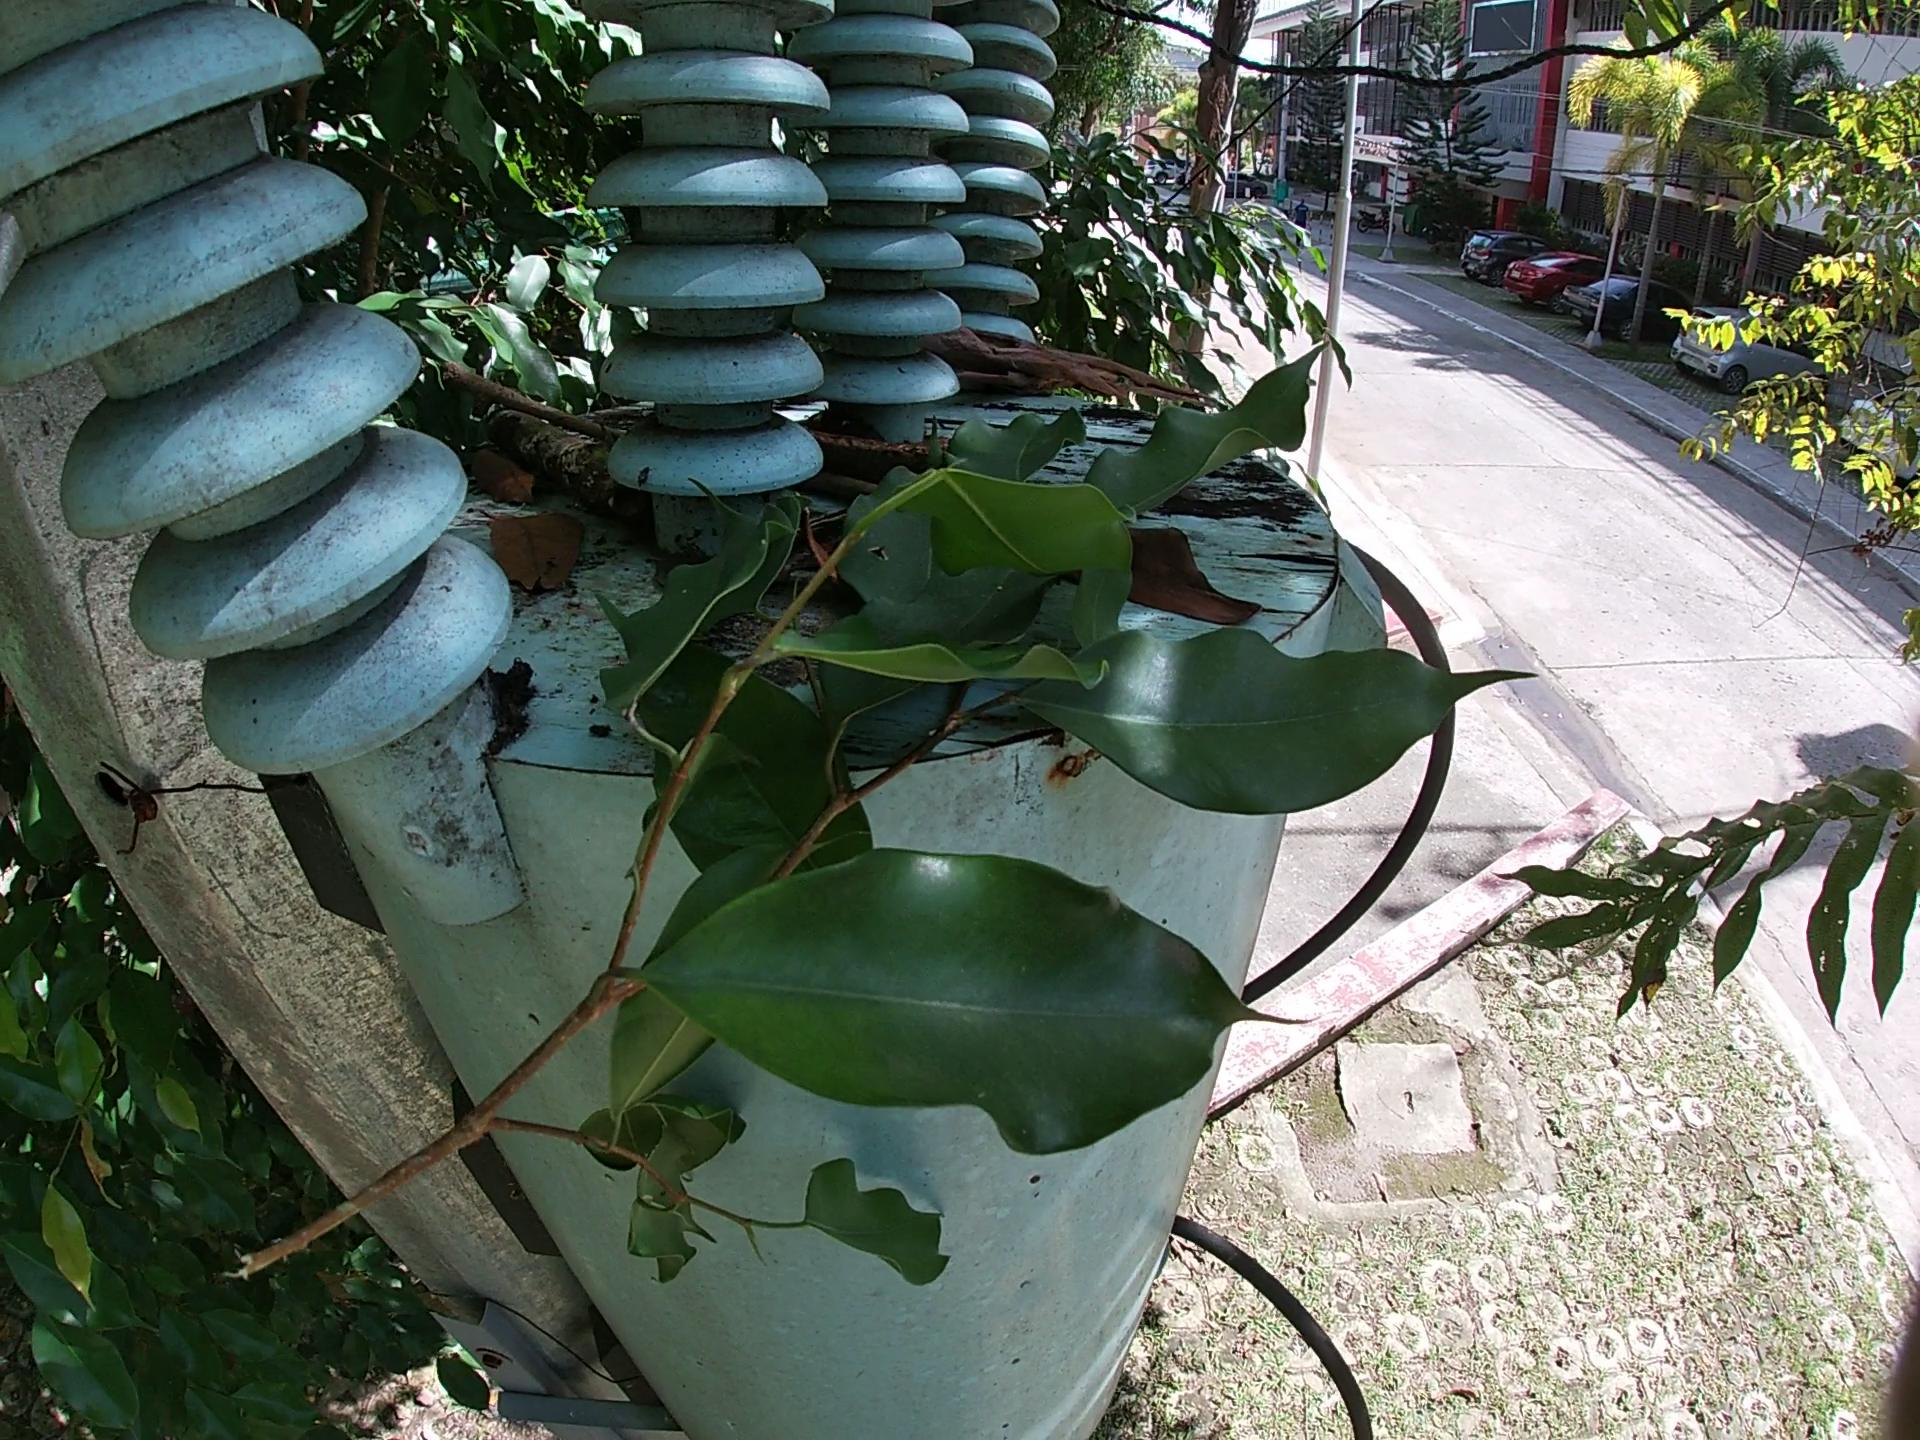branch with leaves: (219, 337, 1548, 1305)
leaf: (1116, 520, 1268, 628), (472, 507, 590, 602), (467, 445, 541, 507)
mahogany fruit: (801, 427, 948, 486)
tree branch: (927, 324, 1223, 417), (487, 408, 656, 520), (438, 357, 624, 442)
